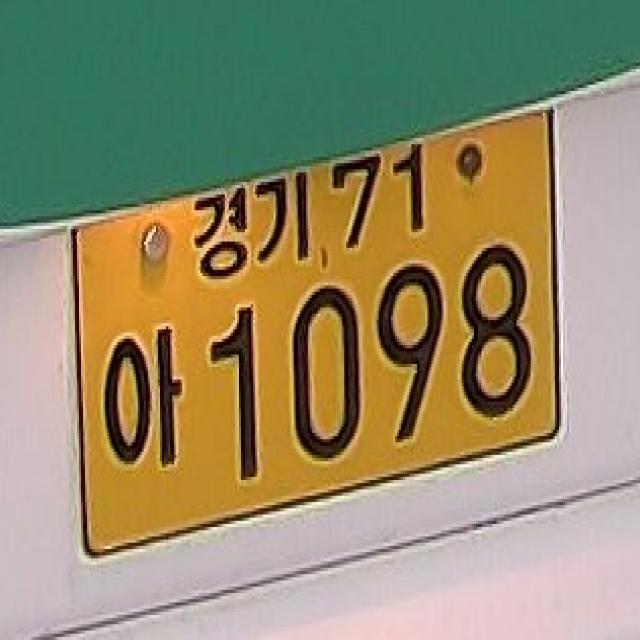plat: (70, 99, 562, 556)
